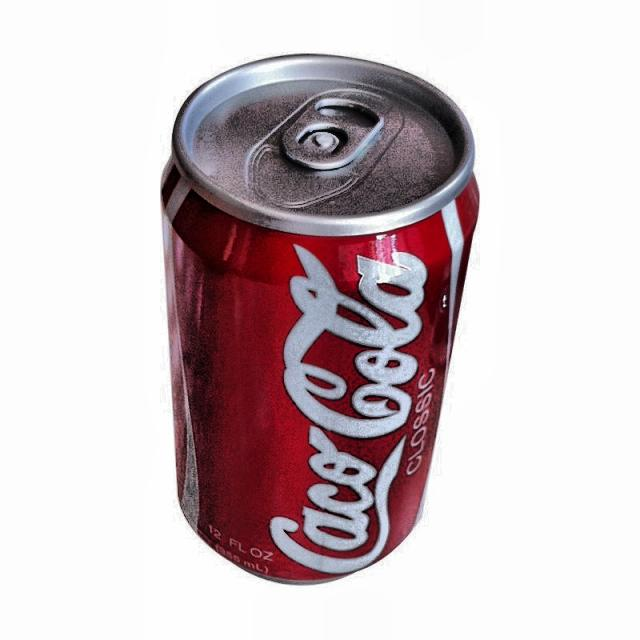Cans: (165, 48, 488, 591)
